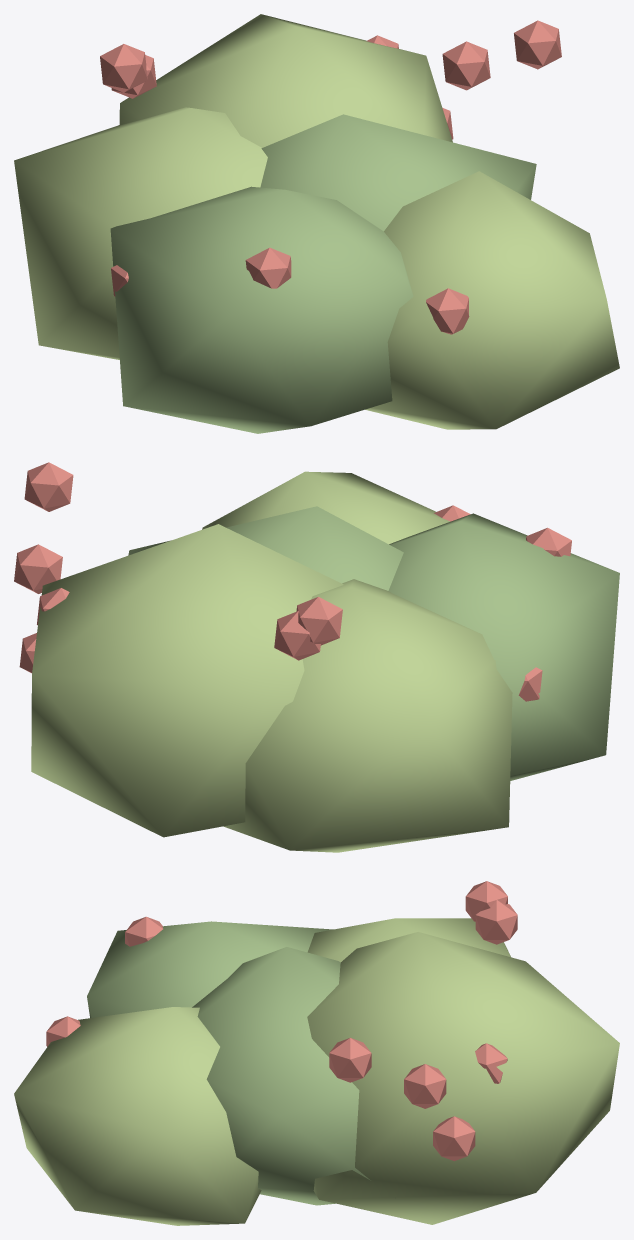
The model's file is bush-b.glb.
The picture shows the model from 3 angles, top to bottom: view 1: azimuth 30°, elevation 25°; view 2: azimuth 150°, elevation 25°; view 3: azimuth 270°, elevation 25°; orthographic projection. The views are drawn at different scales.
Parts seen in each view (by area): view 1: bush-b; view 2: bush-b; view 3: bush-b.
Boxes of the visible parts, x1=… form: bush-b: x1=14, y1=14, x2=619, y2=433; bush-b: x1=14, y1=462, x2=619, y2=852; bush-b: x1=14, y1=881, x2=619, y2=1225.
Size of the model in its own units: 1.35 by 0.8032 by 1.54.
